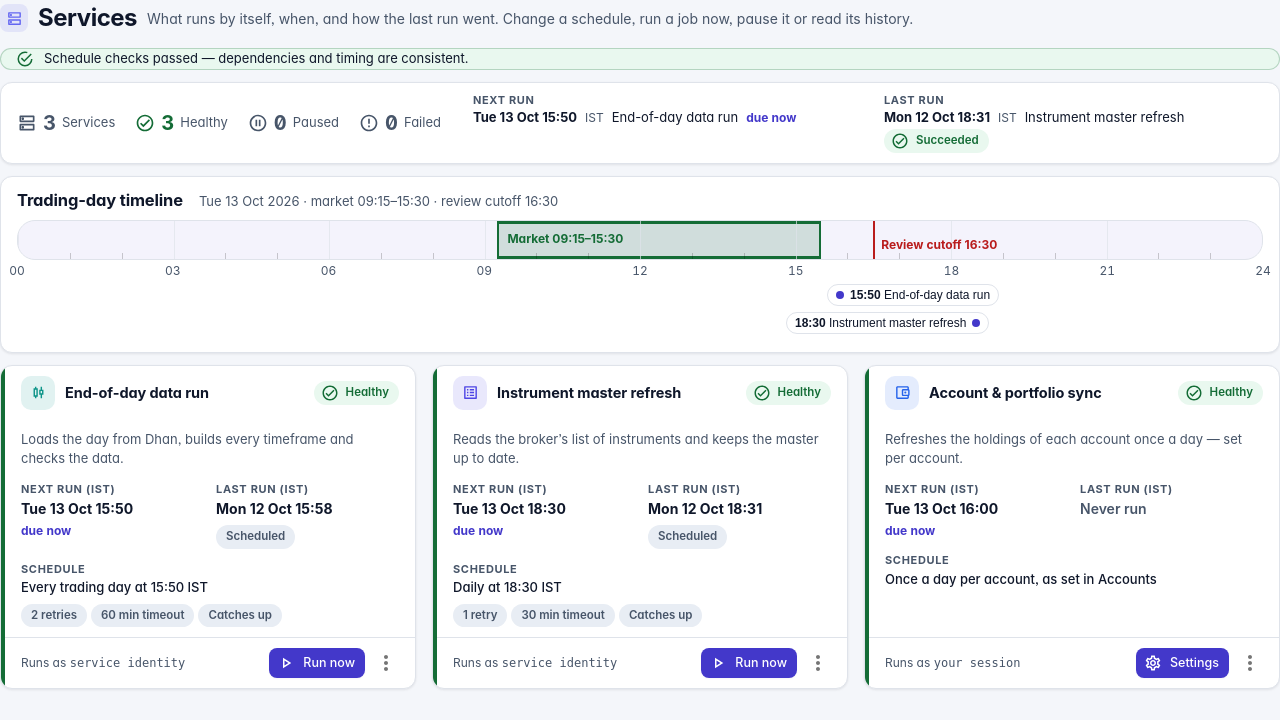
it: Services: the History drawer › closes with its button, and shows the runs of another service when opened for it
Click the button named "Actions for End-of-day data run": coordinates (386, 663) [369,646,403,680]
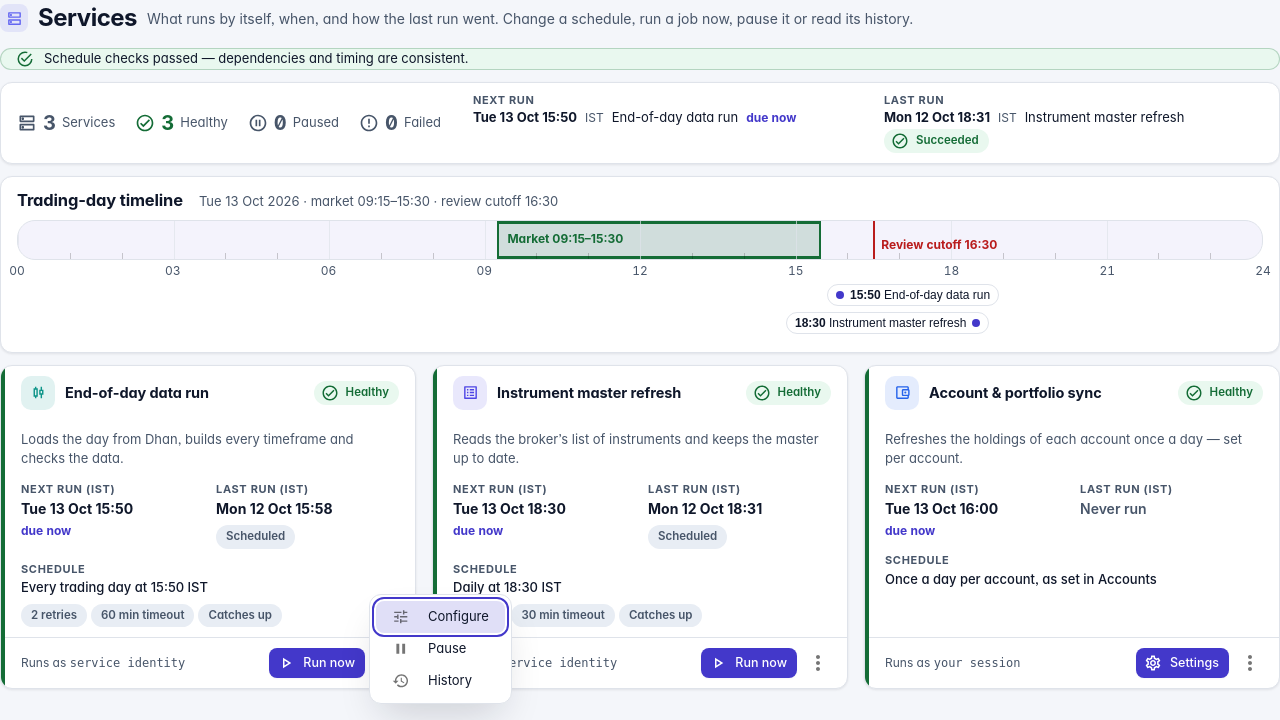
Click the menu item "History": coordinates (432, 681) [392,672,472,690]
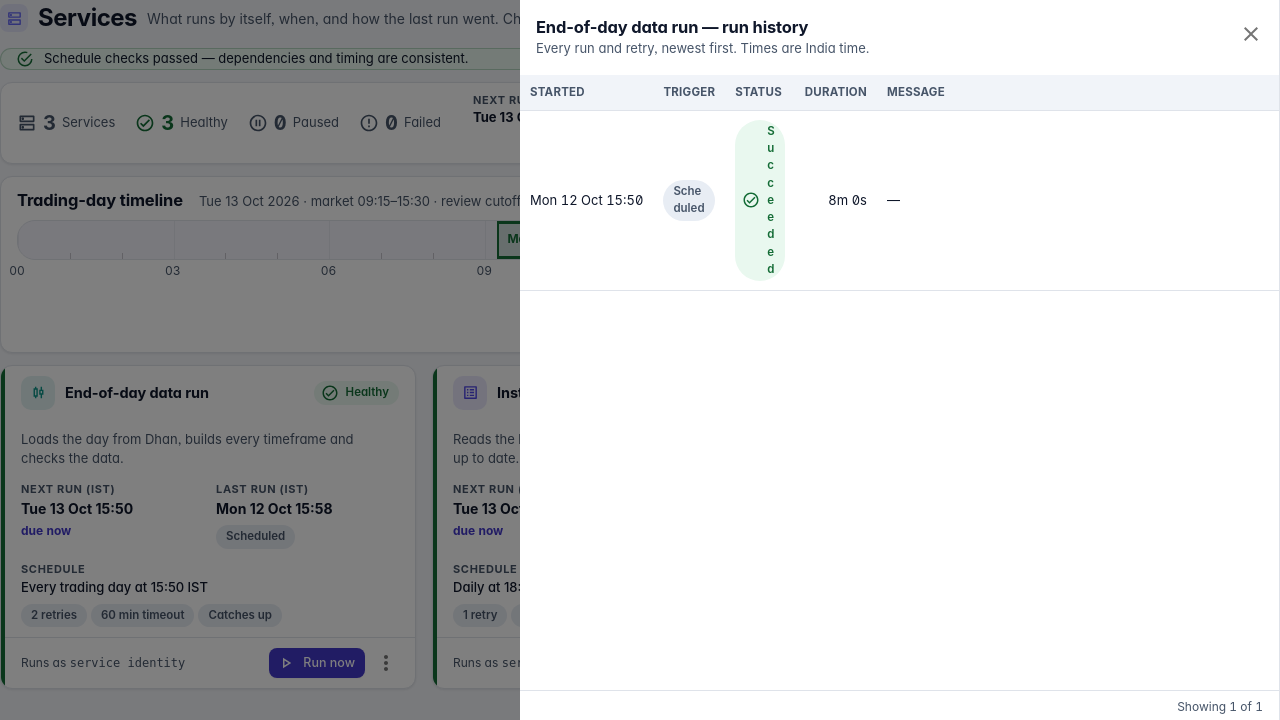
Expected: the table named "Runs" is shown, [520,75,1279,291]
Click the button named "Close run history": coordinates (1251, 34) [1233,16,1269,52]
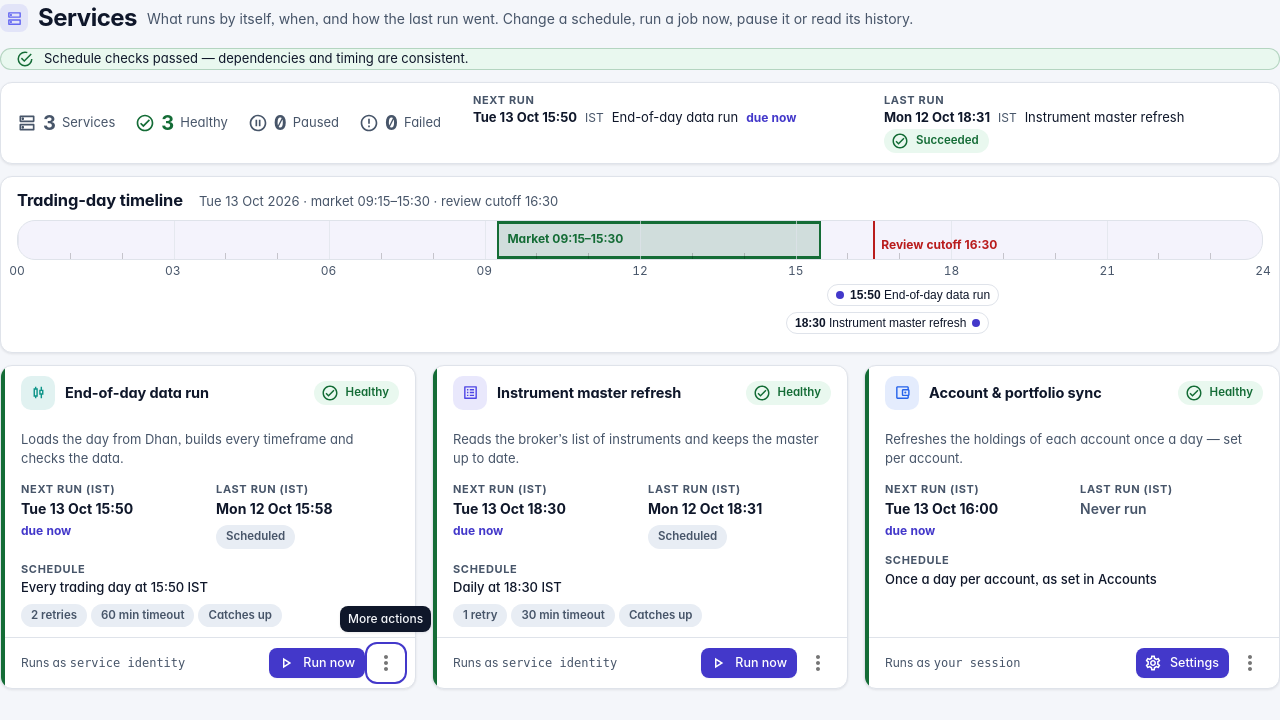
Expected: the heading "run history" is gone
Click the button named "Actions for Instrument master refresh": coordinates (818, 663) [801,646,835,680]
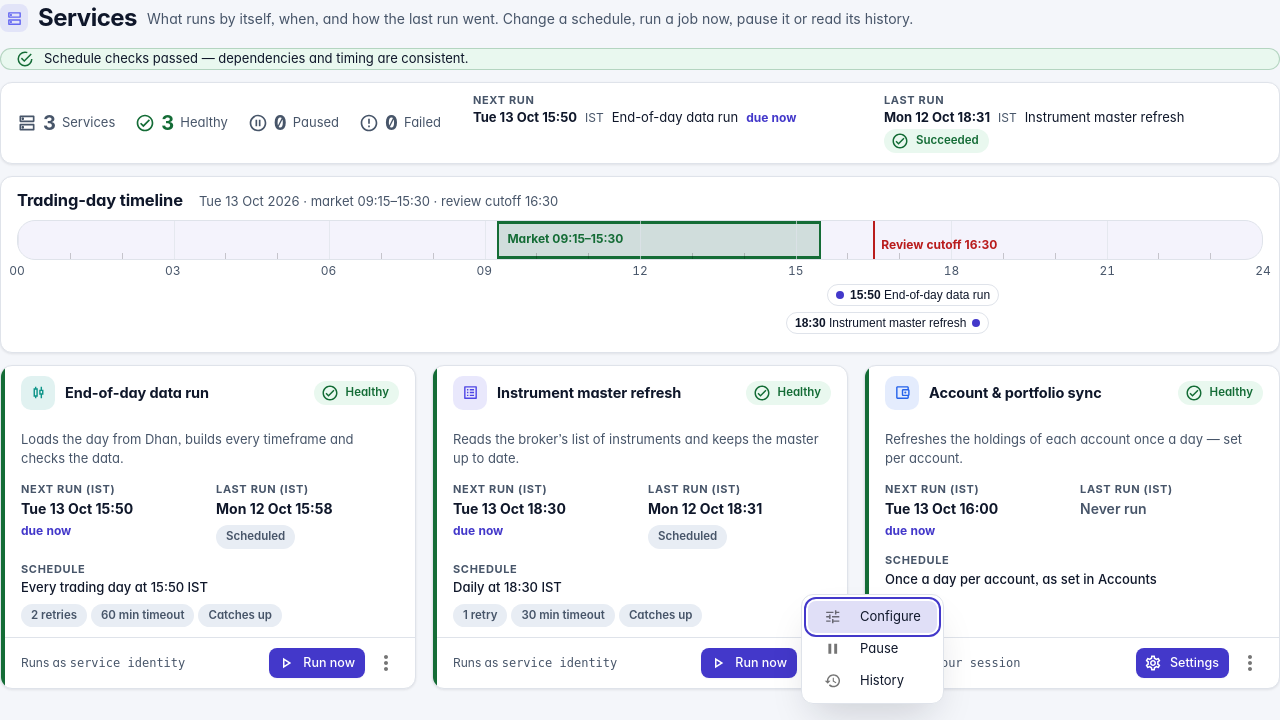
Click the menu item "History": coordinates (864, 681) [824,672,904,690]
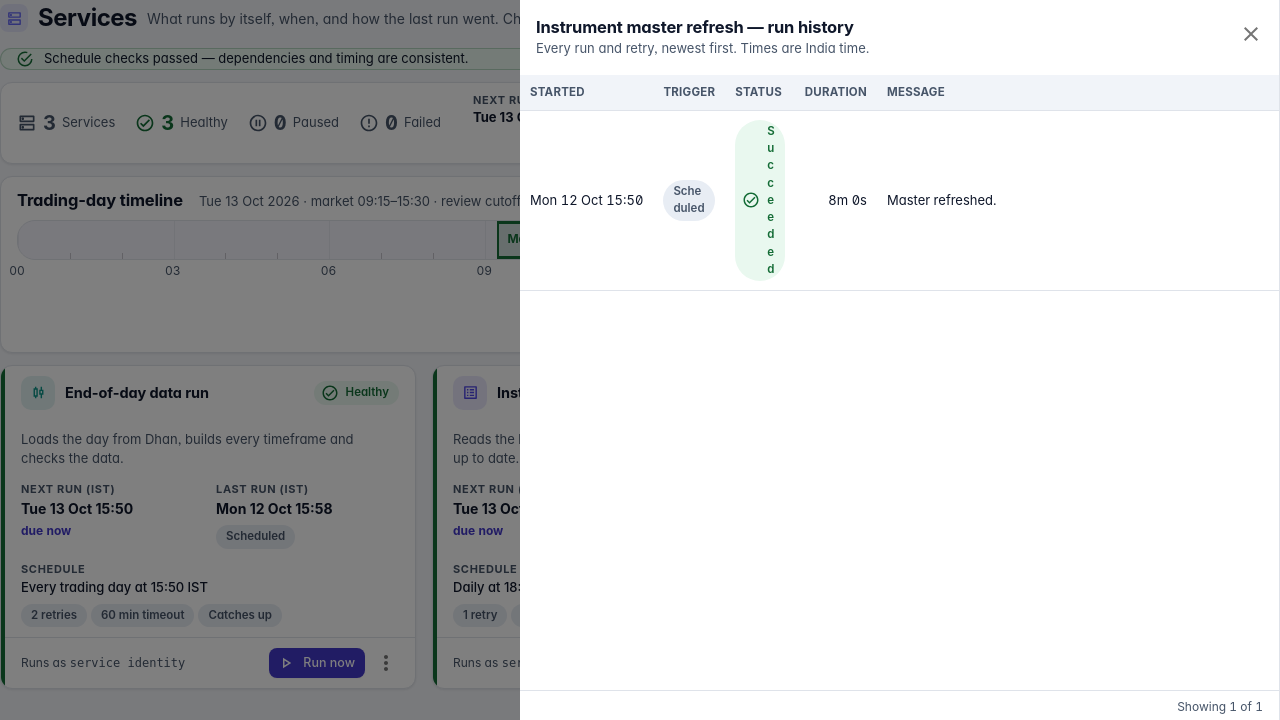
Expected: the text "Master refreshed." is shown, [887,192,997,208]
